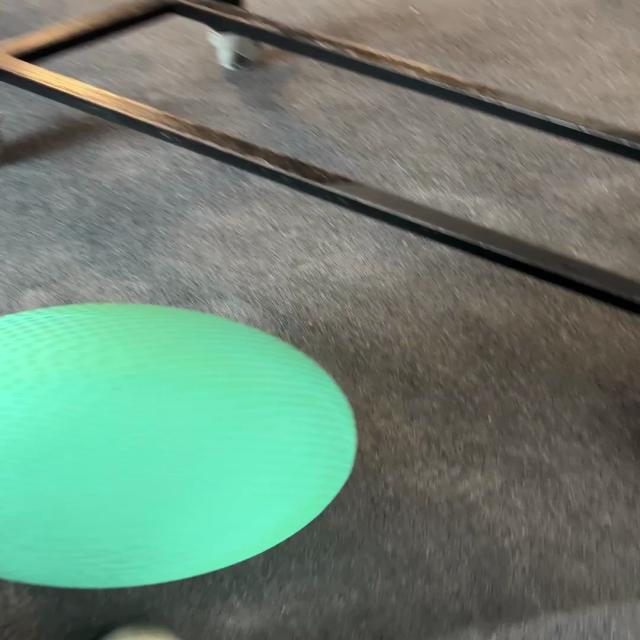Algae: (1, 302, 358, 589)
